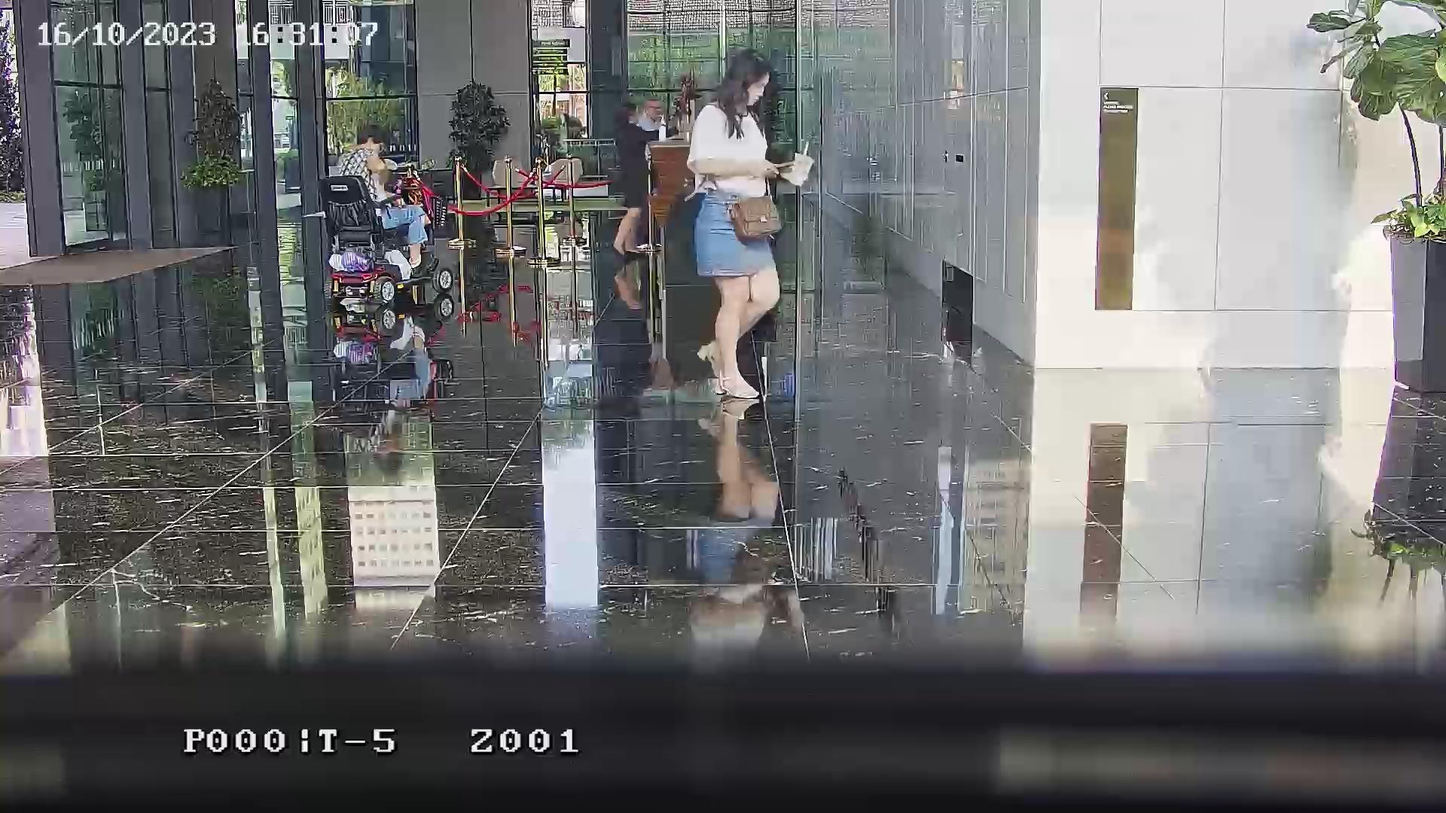person: (686, 49, 798, 403), (336, 126, 439, 275), (613, 96, 648, 255), (638, 98, 664, 131)
